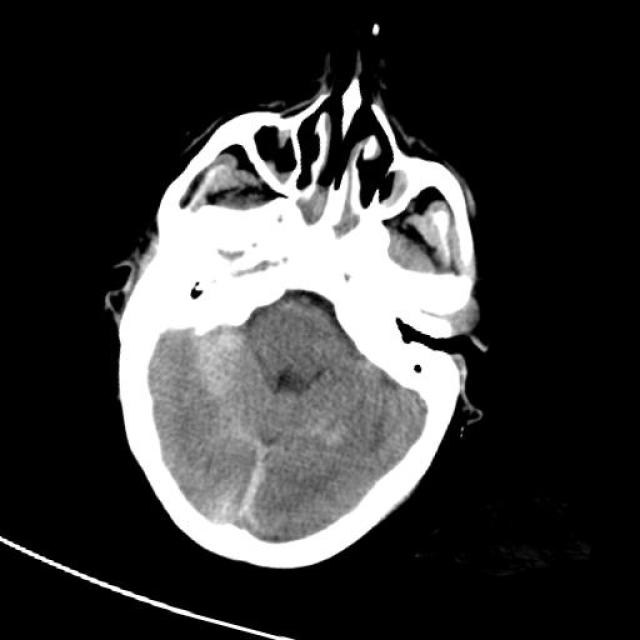Intraparenchymal: (170, 317, 276, 428)
Subdural: (205, 438, 311, 558)
